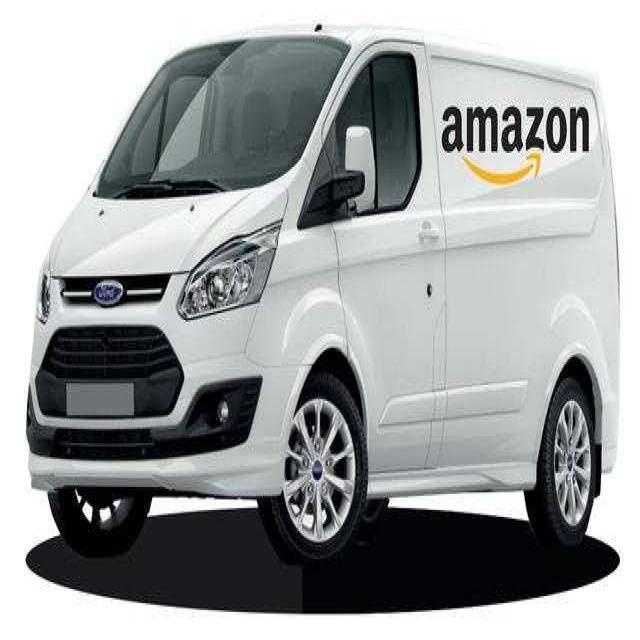Van: (17, 18, 626, 587)
